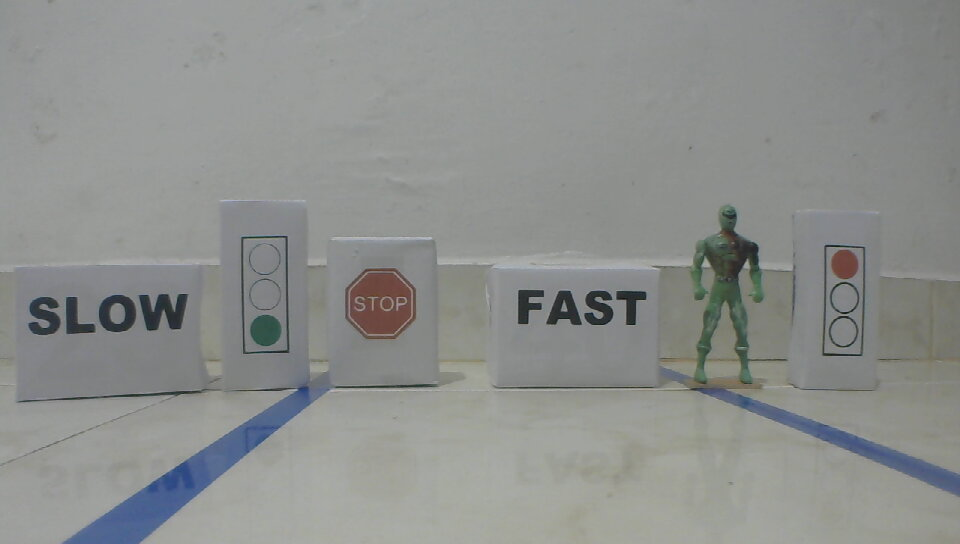Fast: (514, 286, 651, 329)
Green Traffic Light: (238, 232, 294, 357)
Person: (688, 204, 768, 391)
Red Traffic Light: (819, 243, 869, 361)
Slow: (25, 292, 193, 338)
Stop Sign: (342, 267, 419, 343)
